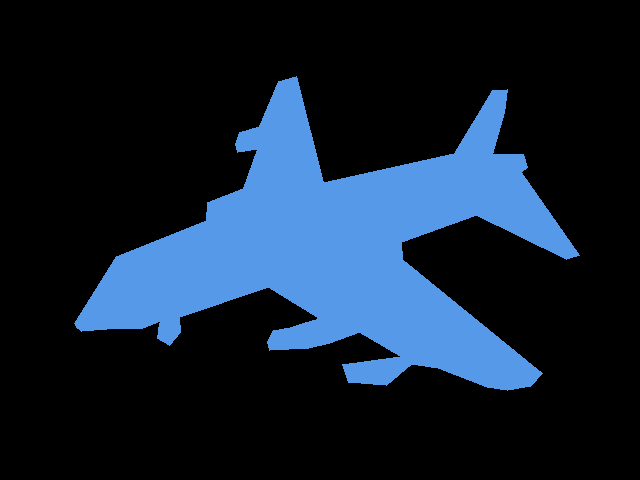Airplane: (74, 76, 580, 390)
